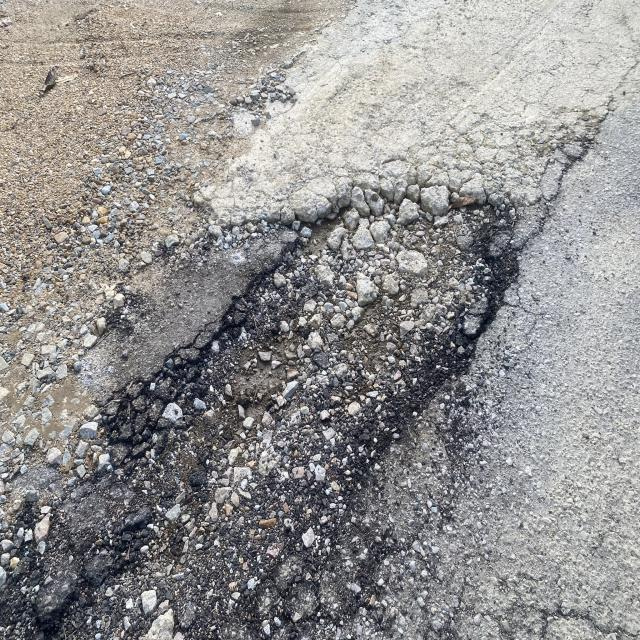Pothole: (73, 162, 584, 558)
